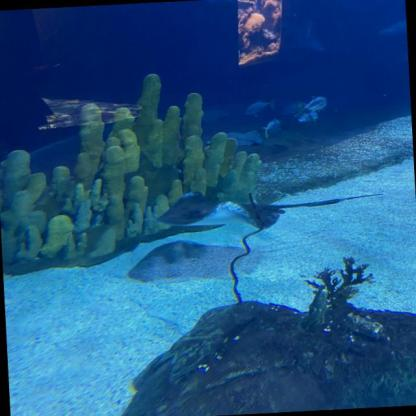fish: (301, 96, 331, 113), (247, 101, 276, 116), (260, 121, 284, 138), (259, 0, 299, 3)
stingray: (165, 188, 287, 236)
